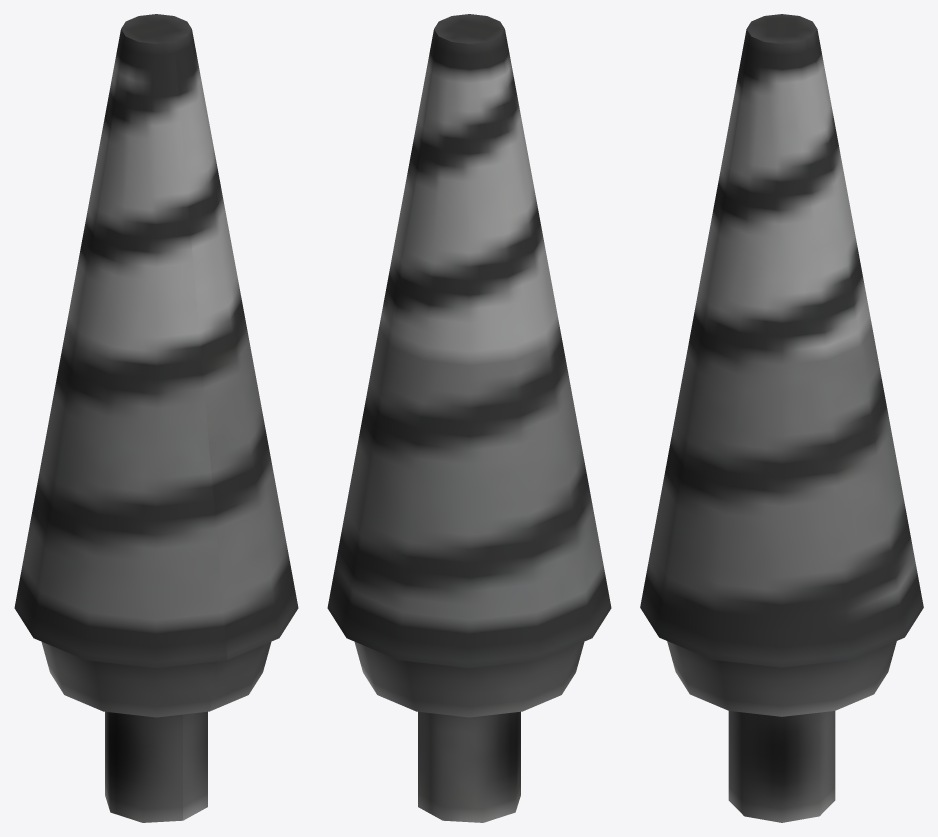
Rendered from lglg.obj.
The picture shows the model from 3 angles, left to right: view 1: azimuth 30°, elevation 25°; view 2: azimuth 150°, elevation 25°; view 3: azimuth 270°, elevation 25°; orthographic projection.
Parts seen in each view (by area): view 1: 1; view 2: 1; view 3: 1.
Boxes of the visible parts, left/top/right/bottom form: 1: left=14, top=14, right=298, bottom=822; 1: left=327, top=14, right=611, bottom=822; 1: left=640, top=14, right=923, bottom=822.
Size of the model in its own units: 0.1 by 0.3 by 0.1.
1 material, 1 textured.
